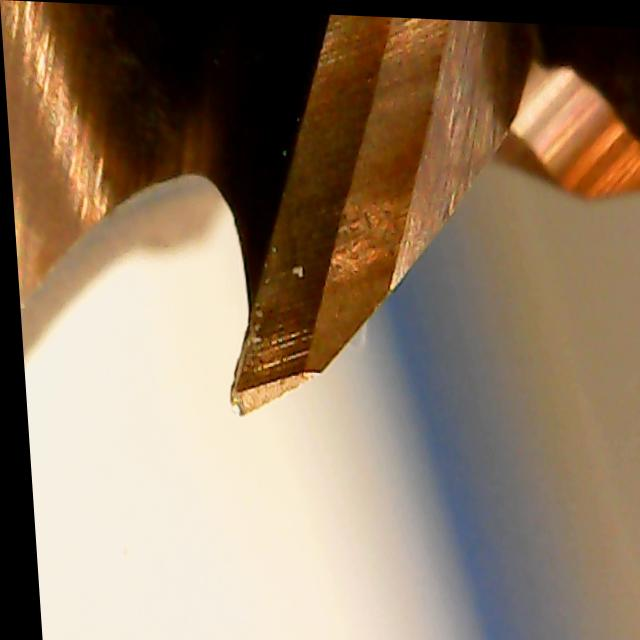Tool-wear-class-1: (214, 214, 379, 421)
